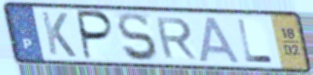A: (198, 15, 243, 65)
K: (39, 10, 79, 59)
L: (235, 18, 276, 65)
P: (76, 9, 117, 62)
R: (153, 17, 200, 61)
S: (115, 11, 160, 64)
